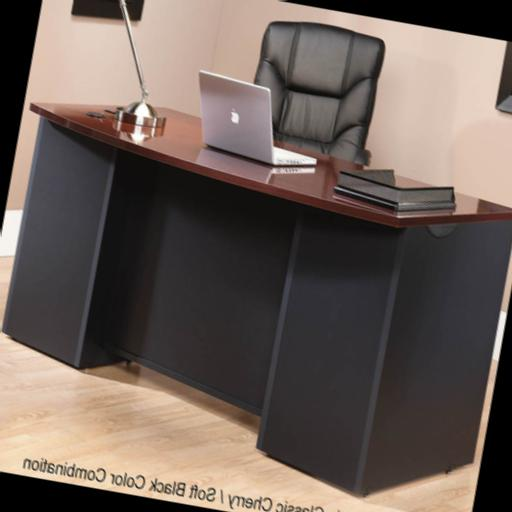chair: (241, 12, 392, 166)
desk: (0, 83, 512, 512)
wall: (1, 0, 512, 312)
